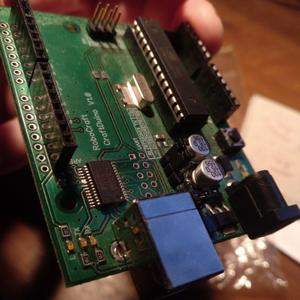duino: (10, 0, 283, 279)
